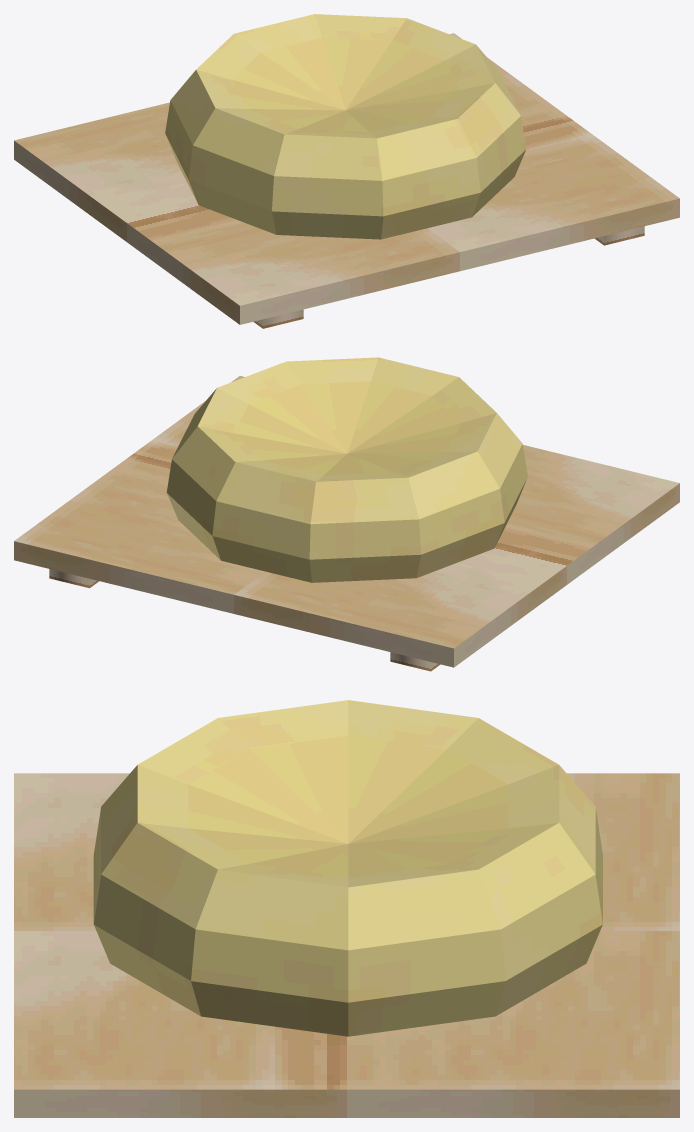
3 renders of one model, top to bottom at view 1: azimuth 30°, elevation 25°; view 2: azimuth 150°, elevation 25°; view 3: azimuth 270°, elevation 25°, orthographic. The views are drawn at different scales.
Parts seen in each view (by area): view 1: dai; view 2: dai; view 3: dai.
Part boxes in pixels (x1=…): dai: x1=14, y1=14, x2=679, y2=328; dai: x1=14, y1=357, x2=679, y2=671; dai: x1=14, y1=700, x2=679, y2=1117.
Size of the model in its own units: 0.8748 by 0.2393 by 0.7781.
2 materials, 2 textured.
